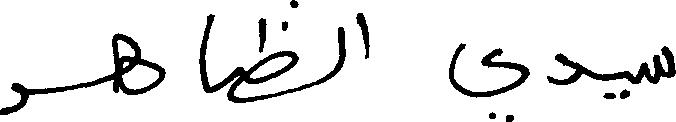X: (447, 38, 529, 121), (240, 0, 297, 107), (111, 28, 164, 99), (635, 41, 675, 88), (548, 48, 583, 89), (0, 78, 31, 119), (603, 66, 633, 103), (198, 11, 208, 97), (355, 8, 370, 63), (335, 22, 345, 79)
